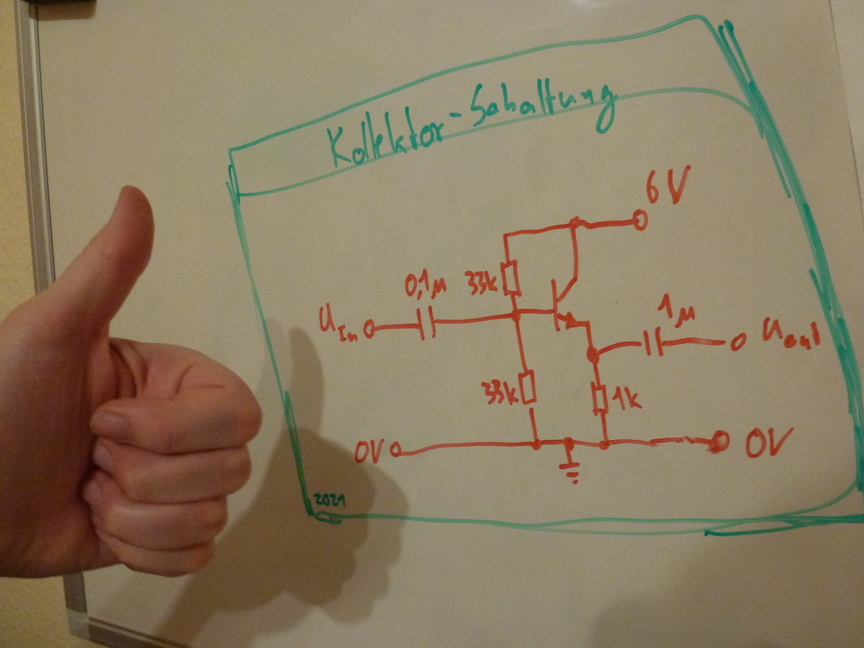capacitor.unpolarized: (632, 322, 674, 359), (407, 303, 446, 341)
gnd: (556, 459, 588, 487)
junction: (562, 213, 588, 236), (583, 342, 606, 367), (527, 435, 546, 456), (508, 305, 525, 326), (559, 434, 577, 453), (595, 436, 614, 453), (498, 230, 513, 241)
resistor: (497, 257, 526, 301), (515, 365, 542, 411), (585, 378, 614, 420)
terminal: (624, 206, 655, 233), (705, 426, 733, 455), (722, 330, 749, 355), (360, 315, 380, 343), (386, 439, 406, 464)
text: (325, 77, 620, 168), (760, 315, 825, 353), (644, 164, 694, 205), (743, 425, 794, 463), (316, 302, 359, 344), (656, 291, 697, 329), (403, 267, 449, 300), (480, 377, 519, 408), (462, 268, 499, 297), (352, 438, 385, 465), (611, 384, 644, 411), (312, 490, 347, 508)
transistor: (543, 271, 598, 336)
